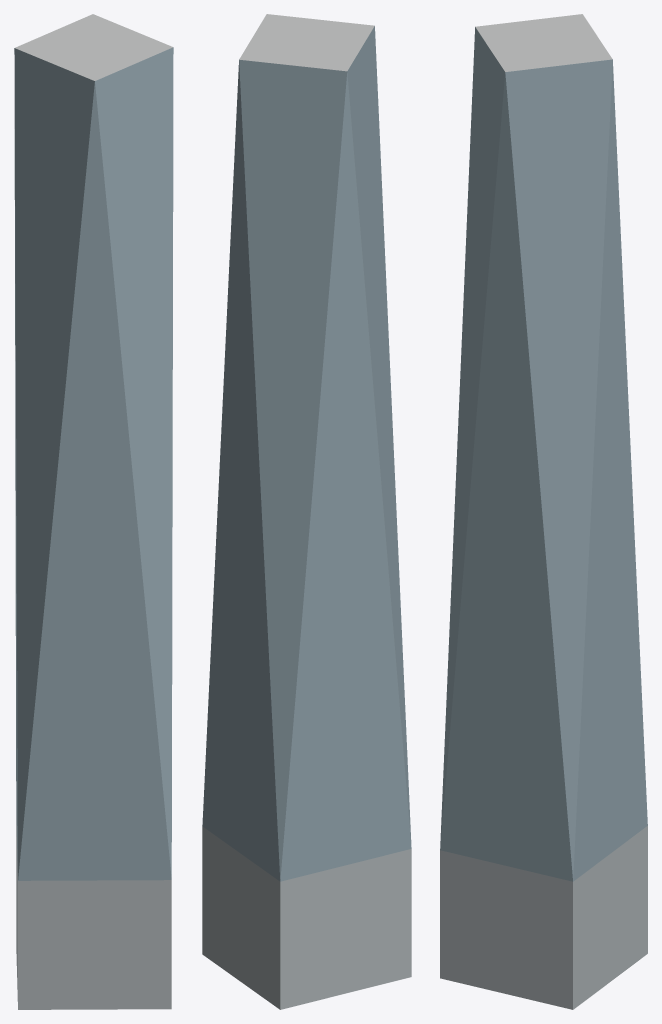
3 renders of one model, left to right at view 1: azimuth 30°, elevation 25°; view 2: azimuth 150°, elevation 25°; view 3: azimuth 270°, elevation 25°, orthographic.
Size of the model in its own units: 85.08 by 417 by 85.08.
